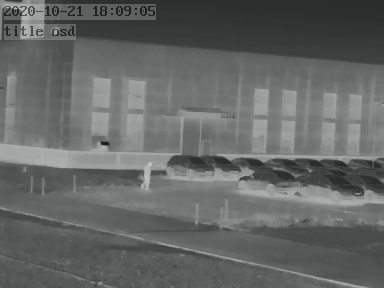person: (140, 161, 153, 191)
vehicle: (300, 171, 362, 199), (238, 168, 305, 193), (165, 153, 214, 178), (205, 153, 243, 177), (349, 174, 384, 200), (233, 155, 271, 172), (262, 155, 302, 171), (346, 156, 378, 170), (317, 156, 347, 170), (295, 156, 325, 169)
